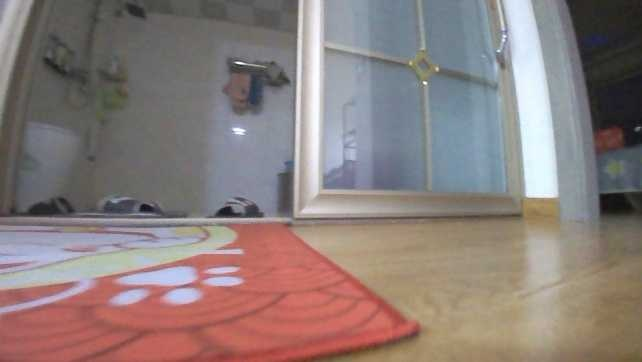blanket: (0, 220, 418, 360)
door_sill: (0, 214, 290, 227)
slipper: (80, 194, 179, 220), (210, 197, 265, 218)
toilet: (14, 118, 80, 210)
